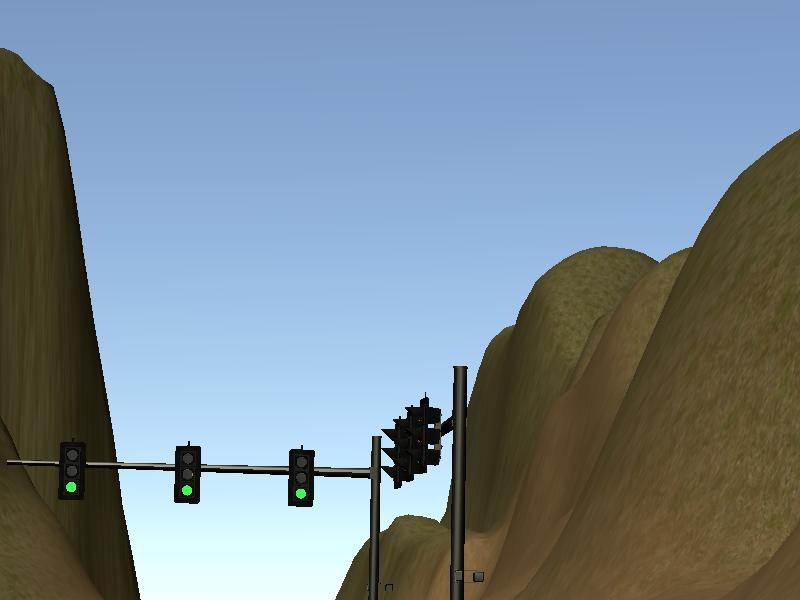green: (173, 443, 200, 504), (289, 446, 315, 506), (59, 442, 83, 500)
